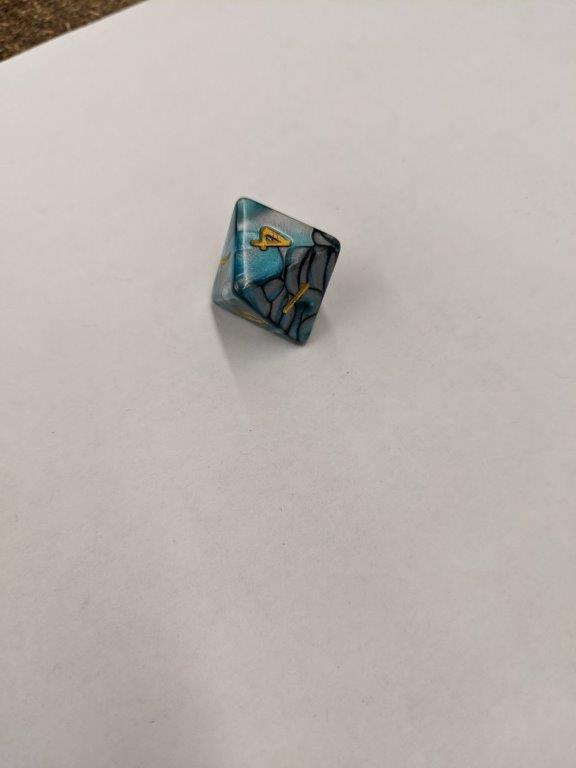d8-4: (208, 197, 344, 346)
